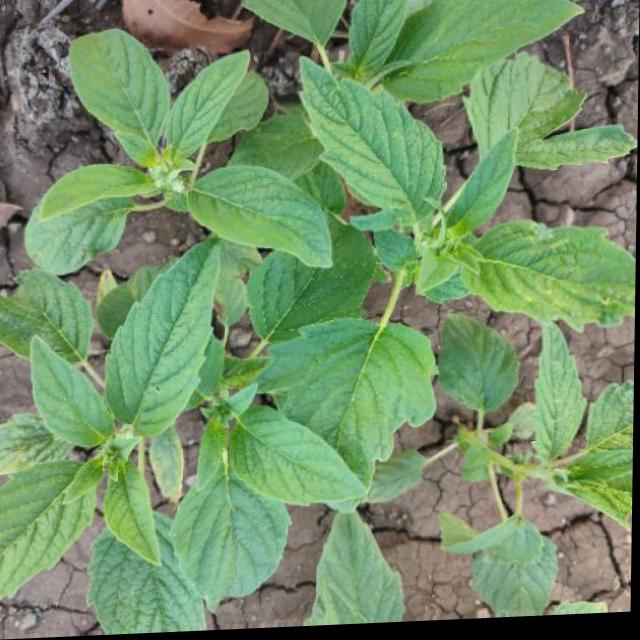crop: (13, 2, 601, 616)
